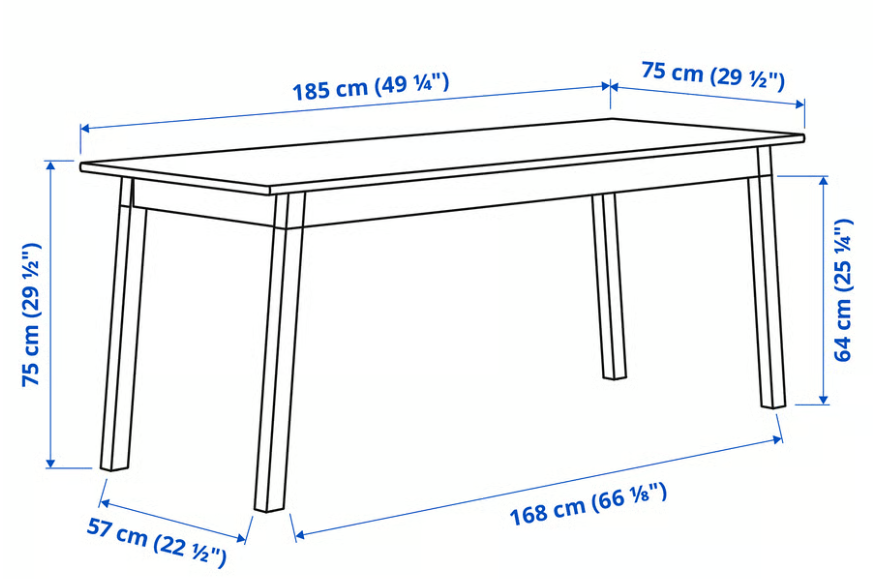table_legs: (254, 192, 305, 512), (100, 177, 147, 471), (748, 146, 786, 408), (592, 193, 627, 380)
table_support: (303, 146, 759, 227), (134, 178, 276, 227)
table_top: (80, 118, 804, 195)
